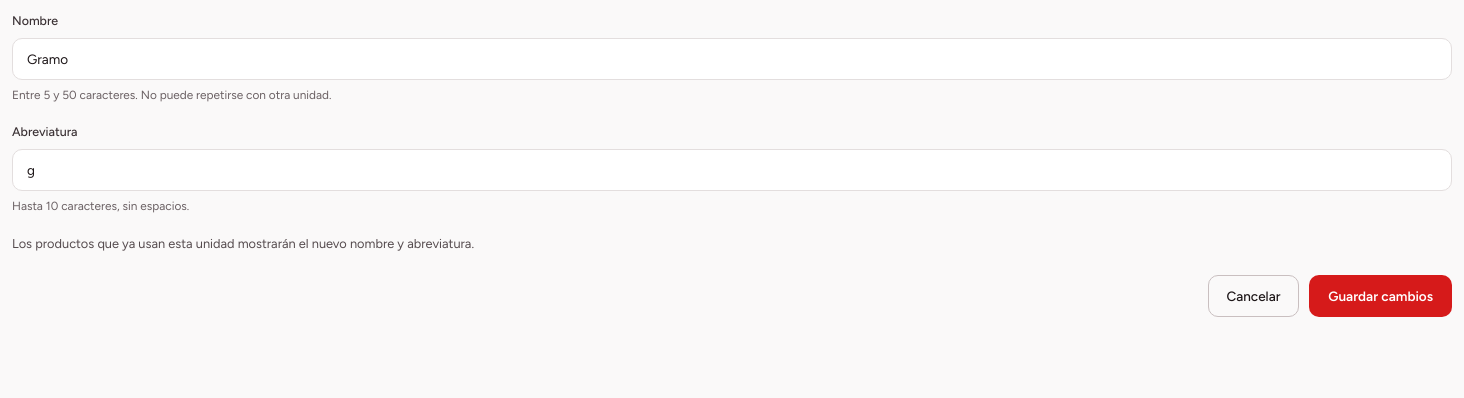
Test: EditUnitForm › shows any other api error
Replace the text in the field labelled "Nombre" with "Gramos" at (732, 59), box [12,38,1452,80]
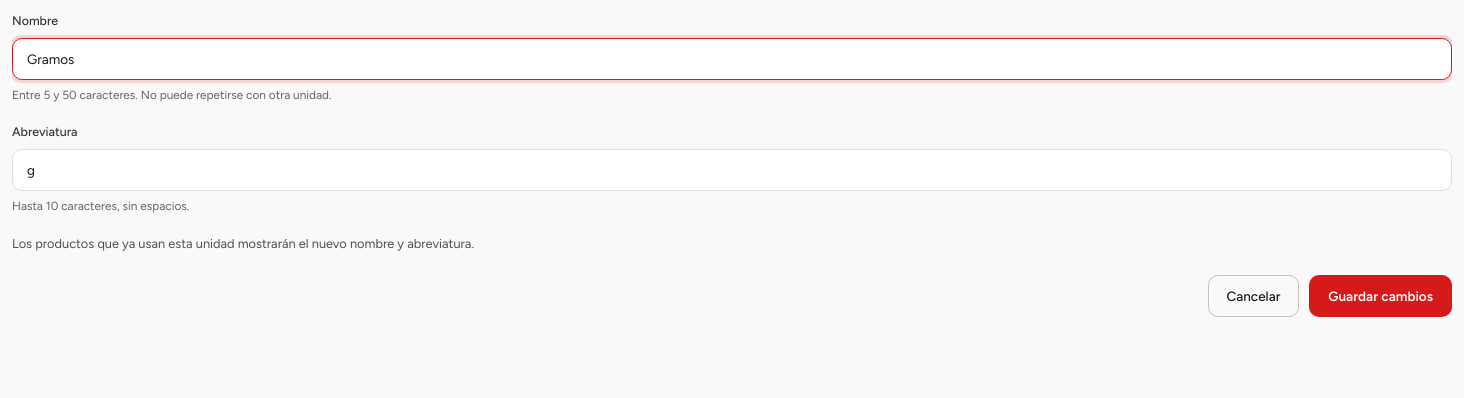
Click the button "Guardar cambios".
click(1381, 296)  # box [1309,275,1452,317]
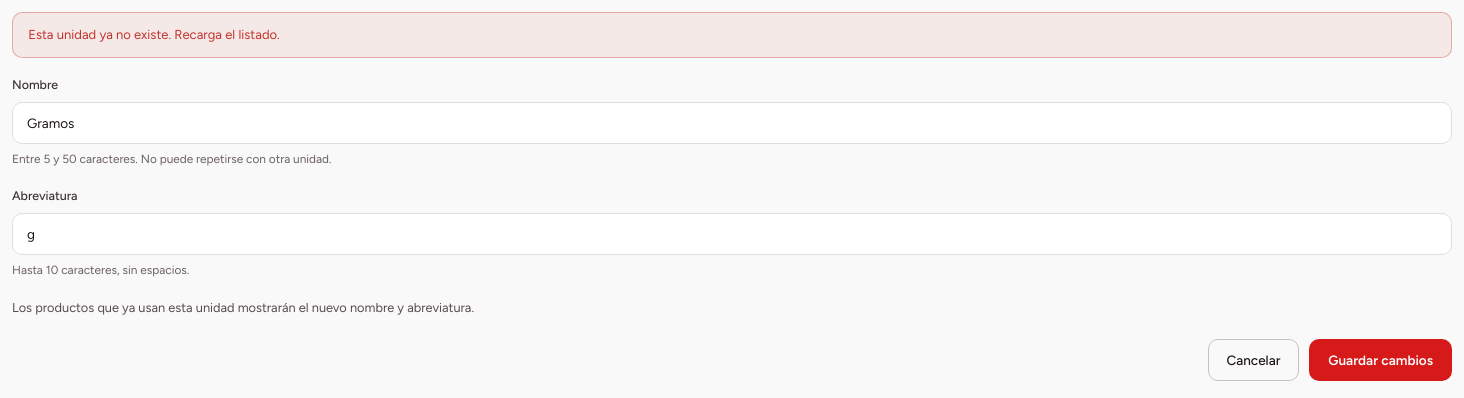
Expected: the message reads "Esta unidad ya no existe. Recarga el listado.", [28,27,280,42]
